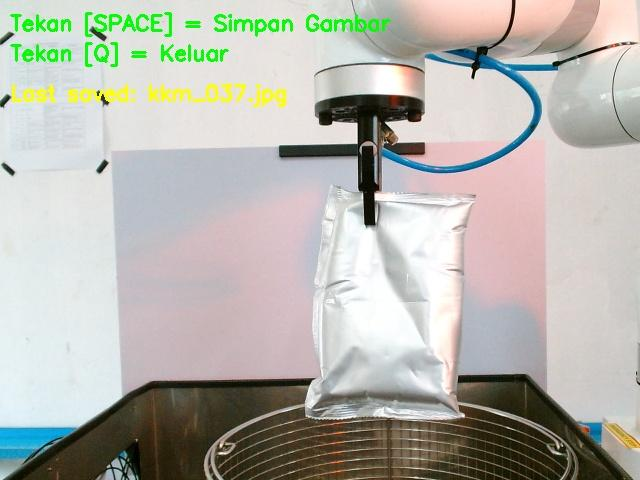retort-pouch: (304, 185, 475, 421)
